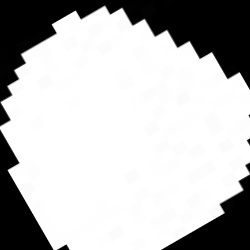spot: (2, 8, 248, 249)
